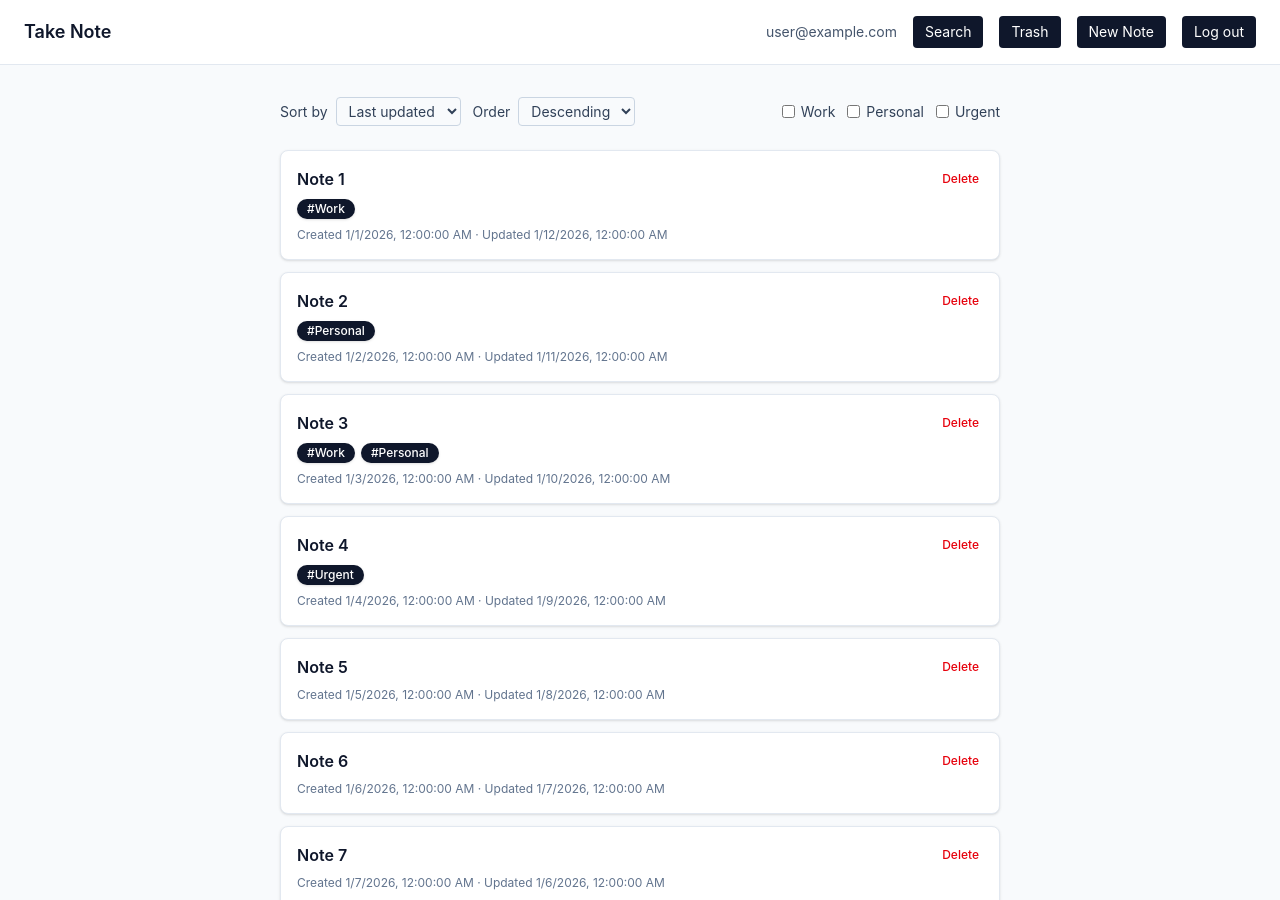
Scenario: NotesListPage › Applying a single tag filter displays matching notes
Expected: the heading "Note 1" is shown, [297, 169, 345, 189]
Click the checkbox labelled "Work": (788, 112) [782, 105, 795, 118]
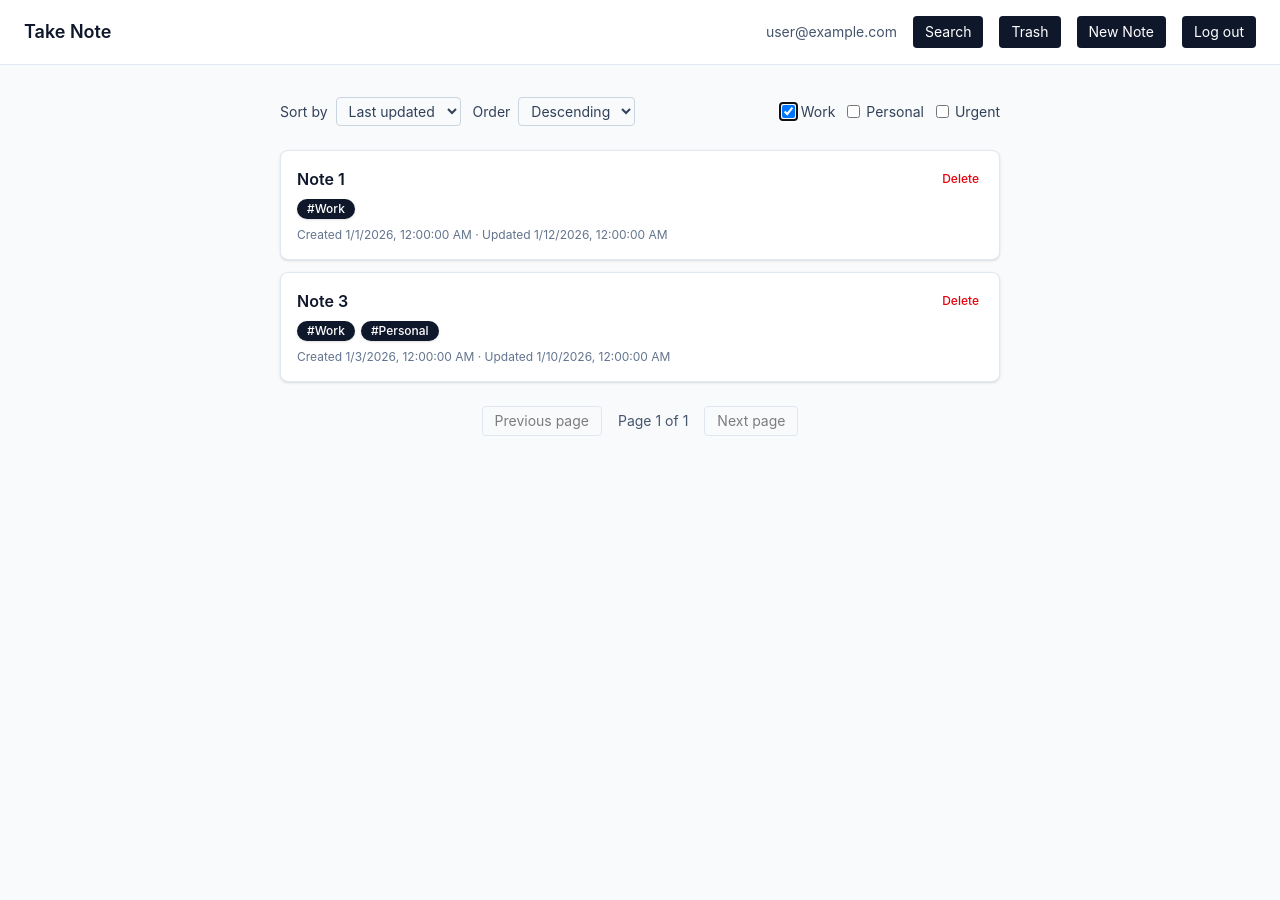
Expected: the heading "Note 1" is shown, [297, 169, 345, 189]
Result: the link "Note 2" is gone
